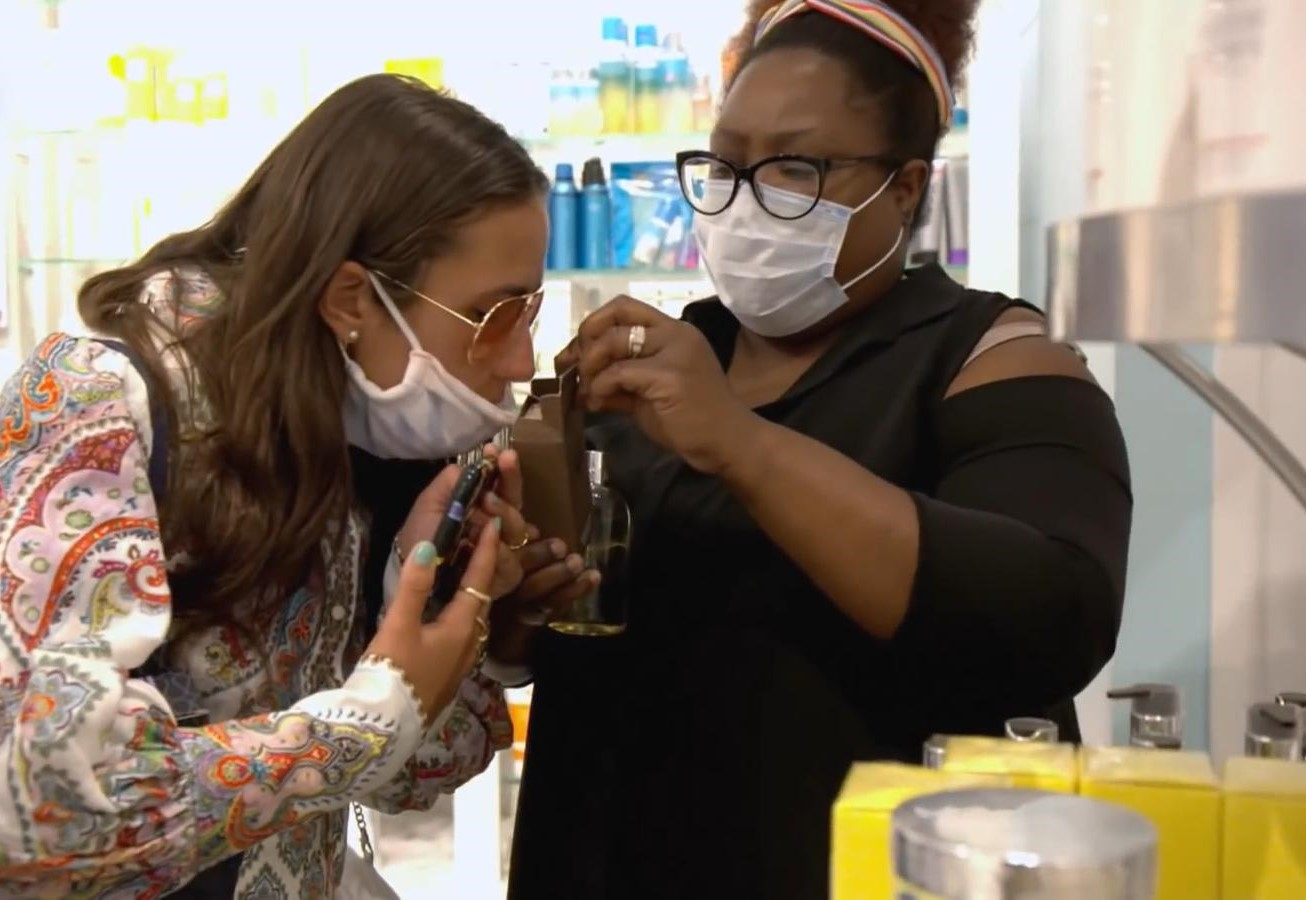with_incorrect_mask: (349, 268, 535, 425)
with_mask: (724, 129, 868, 314)
